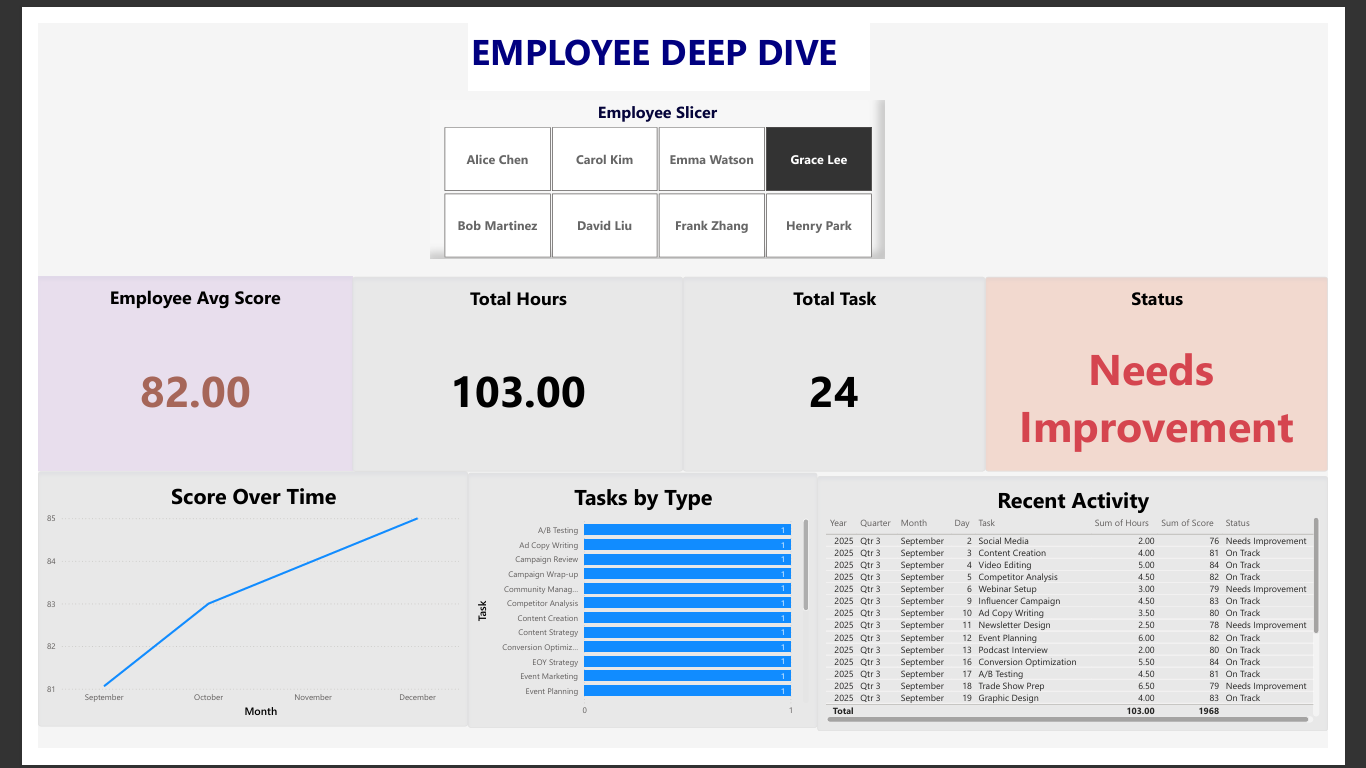

The dashboard page shown, as its layout file describes it:
{"tool":"powerbi","page":{"name":"Employee Deep Dive","canvas":[1920,1080],"ordinal":1},"visuals":[{"type":"slicer","title":"Employee Slicer","fields":{"Values":["PerformanceData.Employee"]},"box":[584.4,115.6,675.6,235.6],"z":0},{"type":"card","title":"Employee Avg Score","fields":{"Values":["PerformanceData.Average Score"]},"box":[0,377.5,467.5,290],"z":1000},{"type":"card","title":"Total Task","fields":{"Values":["PerformanceData.Total Tasks"]},"box":[960,377.5,450,290],"z":2000},{"type":"card","title":"Total Hours","fields":{"Values":["PerformanceData.Total Hours"]},"box":[467.5,377.5,492.5,290],"z":3000},{"type":"lineChart","title":"Score Over Time","fields":{"Y":["Avg(PerformanceData.Score)"],"Category":["PerformanceData.Date.Variation.Date Hierarchy.Month"]},"box":[0,667.5,640,380],"z":4000},{"type":"card","title":"Status","fields":{"Values":["Min(PerformanceData.Status)"]},"box":[1410,377.5,510,290],"z":5000},{"type":"clusteredBarChart","title":"Tasks by Type","fields":{"Category":["PerformanceData.Task"],"Y":["CountNonNull(PerformanceData.Task)"]},"box":[640,670,520,380],"z":6000},{"type":"tableEx","title":"Recent Activity","fields":{"Values":["PerformanceData.Date.Variation.Date Hierarchy.Year","PerformanceData.Date.Variation.Date Hierarchy.Quarter","PerformanceData.Date.Variation.Date Hierarchy.Month","PerformanceData.Date.Variation.Date Hierarchy.Day","PerformanceData.Task","Sum(PerformanceData.Hours)","Sum(PerformanceData.Score)","PerformanceData.Status"]},"box":[1160,675,760,380],"z":7000},{"type":"textbox","box":[640,0,597.5,100],"z":8000}]}

Visuals, with their boxes in screenshot pixels (x1, y1, x2, y2), scaled from the page's 1920x1080 canvas onto the 1366x768 screenshot:
"Employee Slicer" slicer: x1=416 y1=82 x2=896 y2=250
"Employee Avg Score" card: x1=0 y1=268 x2=333 y2=475
"Total Task" card: x1=683 y1=268 x2=1003 y2=475
"Total Hours" card: x1=333 y1=268 x2=683 y2=475
"Score Over Time" lineChart: x1=0 y1=475 x2=455 y2=745
"Status" card: x1=1003 y1=268 x2=1365 y2=475
"Tasks by Type" clusteredBarChart: x1=455 y1=476 x2=825 y2=747
"Recent Activity" tableEx: x1=825 y1=480 x2=1365 y2=750
textbox: x1=455 y1=0 x2=880 y2=71
